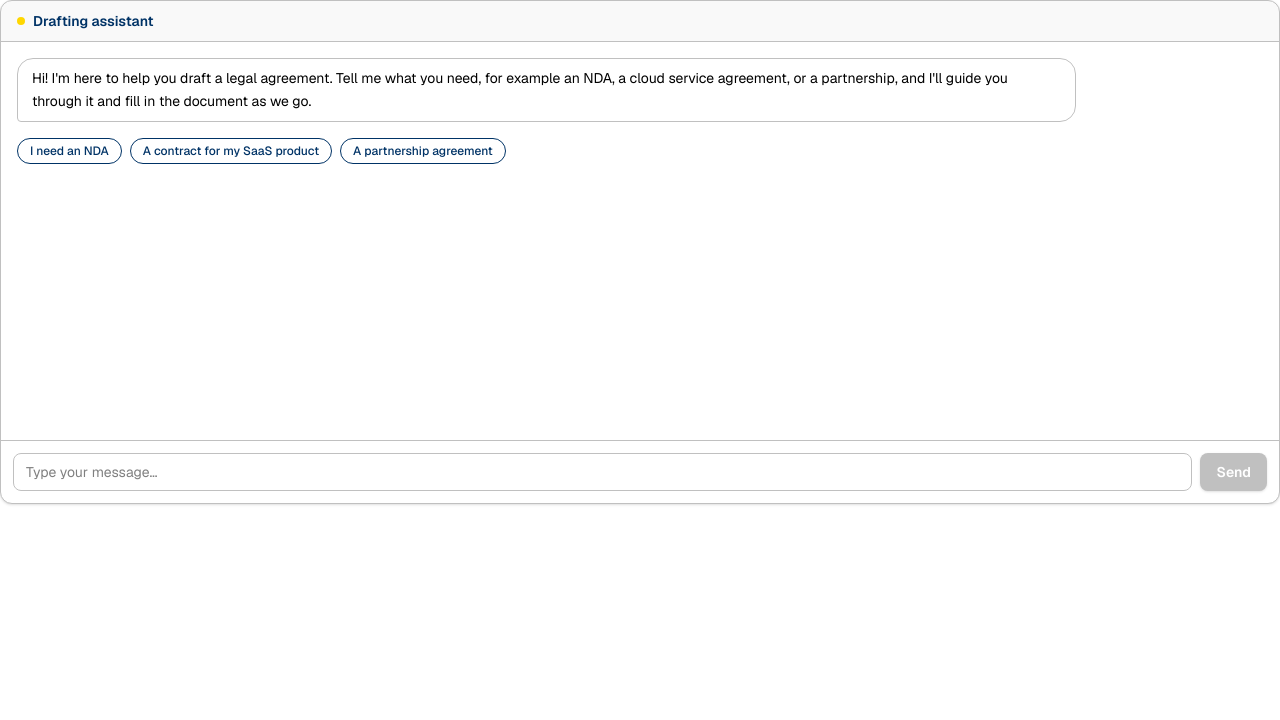
Test: ChatPanel › sends the message and draft, shows the reply and reports the new document and values
This screenshot has width=1280, height=720.
Type "Delaware law please" into the field labelled "message" at [603, 472], box [13,453,1192,491]
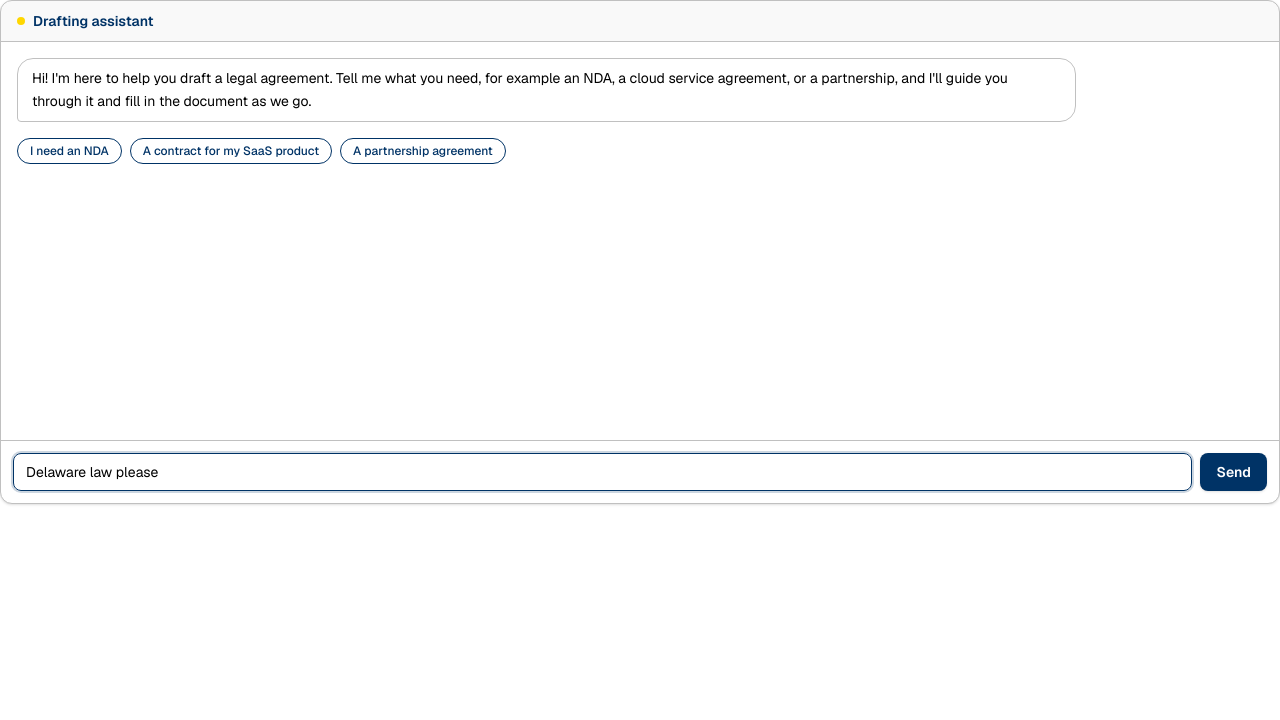
Click the button "Send" at [1234, 472], box [1200,453,1267,491]
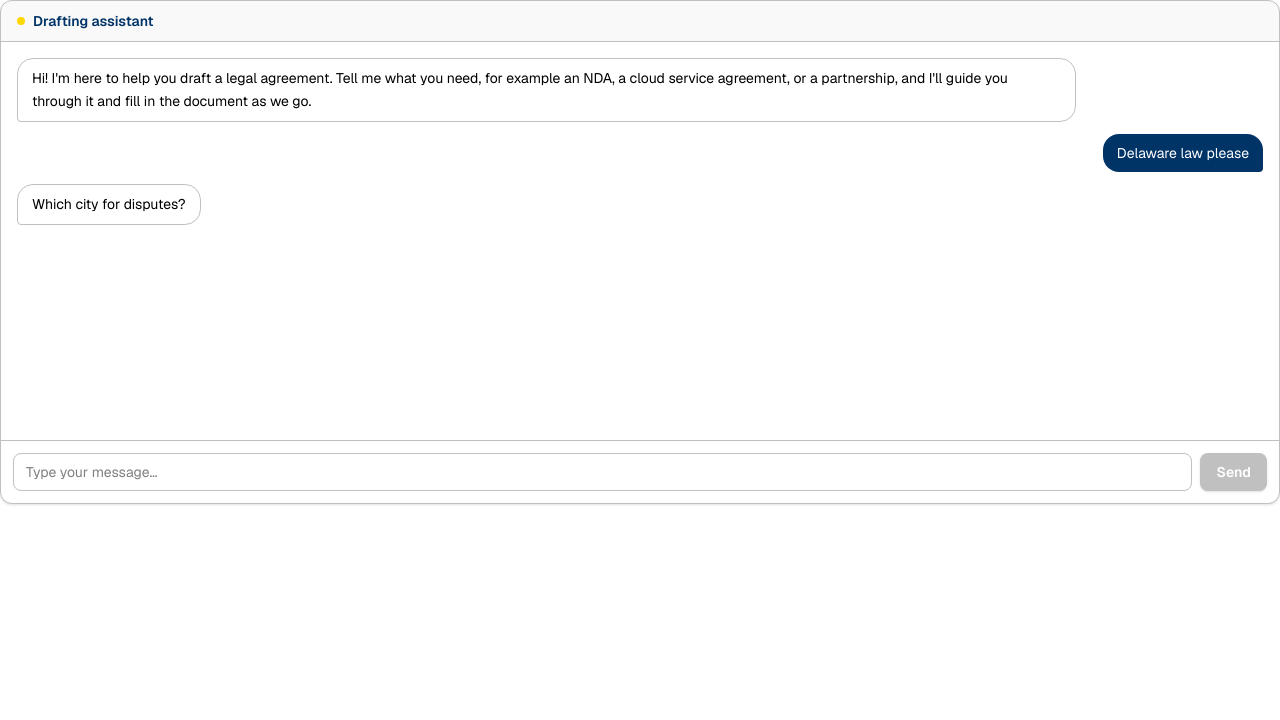
Check: the text "Which city for disputes?" is shown, box [17,184,201,225]
Check: the text "Delaware law please" is shown, box [1103,134,1263,172]
